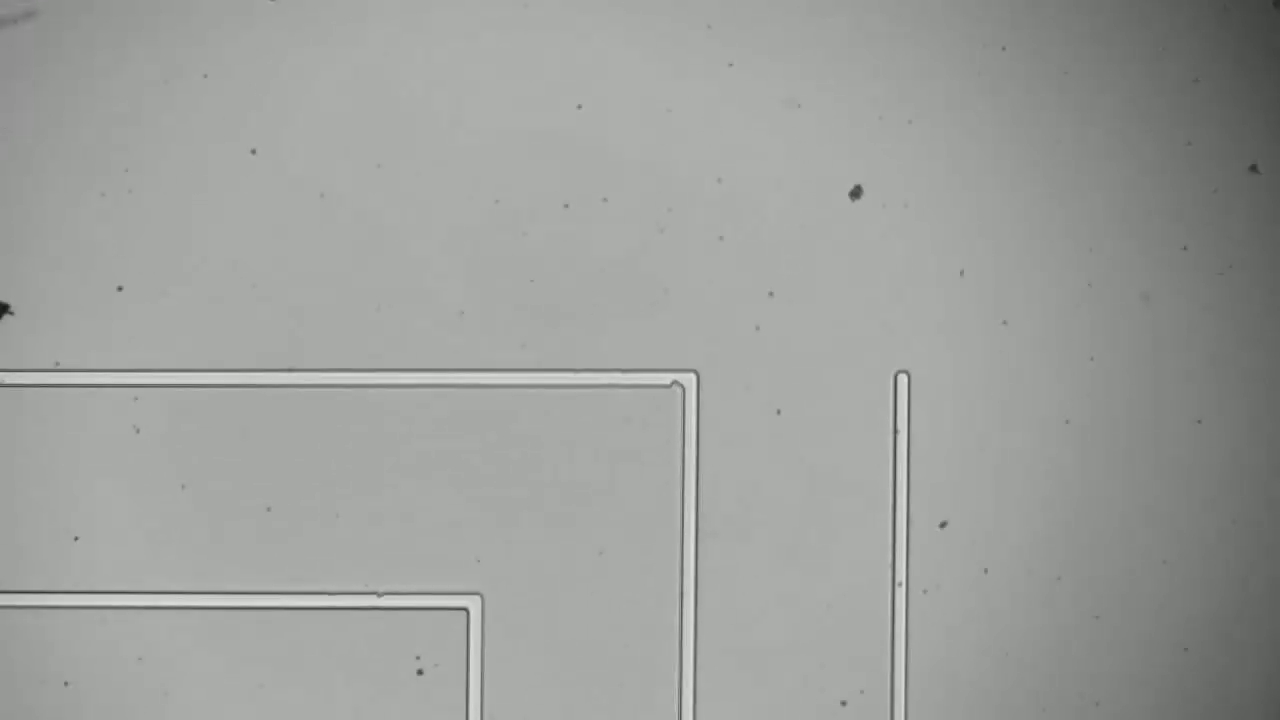edge_bite: (366, 584, 398, 614), (662, 360, 688, 394)
